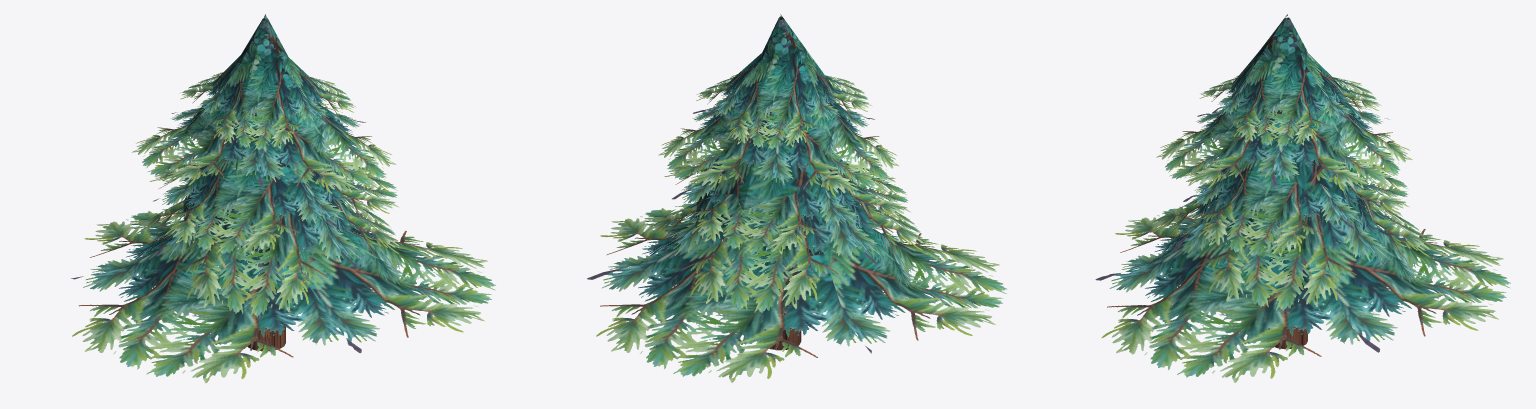
The model's file is Arbre.fbx.
3 views of the same model, side by side, from view 1: azimuth 30°, elevation 25°; view 2: azimuth 150°, elevation 25°; view 3: azimuth 270°, elevation 25° (orthographic).
Parts seen in each view (by area): view 1: Circle.004, Circle.003, Circle.001, Circle.002, Circle, Cylinder; view 2: Circle.004, Circle.003, Circle.001, Circle, Circle.002; view 3: Circle.004, Circle.003, Circle.001, Circle.002, Circle.
Part boxes in pixels (box(x1,y1,x2,y2)): Circle.004: box(71, 205, 495, 383); Circle.003: box(136, 144, 402, 317); Circle.001: box(132, 78, 396, 193); Circle.002: box(149, 148, 398, 254); Circle: box(179, 14, 356, 150); Cylinder: box(247, 316, 285, 351); Circle.004: box(587, 202, 1007, 382); Circle.003: box(644, 145, 928, 312); Circle.001: box(658, 96, 898, 196); Circle: box(696, 14, 872, 149); Circle.002: box(664, 153, 910, 254); Circle.004: box(1095, 204, 1510, 382); Circle.003: box(1149, 146, 1433, 310); Circle.001: box(1156, 96, 1412, 190); Circle.002: box(1183, 145, 1409, 256); Circle: box(1199, 14, 1381, 147).
Size of the model in its own units: 359 by 264 by 350.
